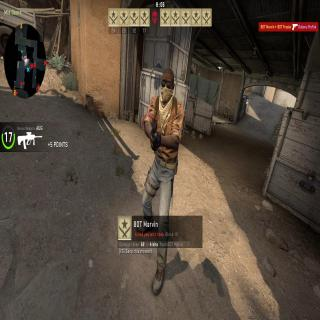T-Body: (137, 66, 187, 295)
T-Head: (159, 68, 175, 104)
